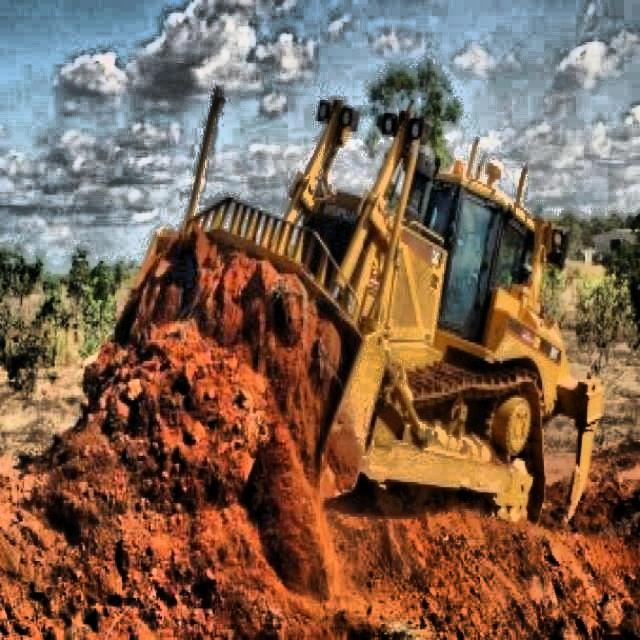bull_dozer/loader/grader: (113, 83, 603, 530)
person: (467, 228, 505, 296)
